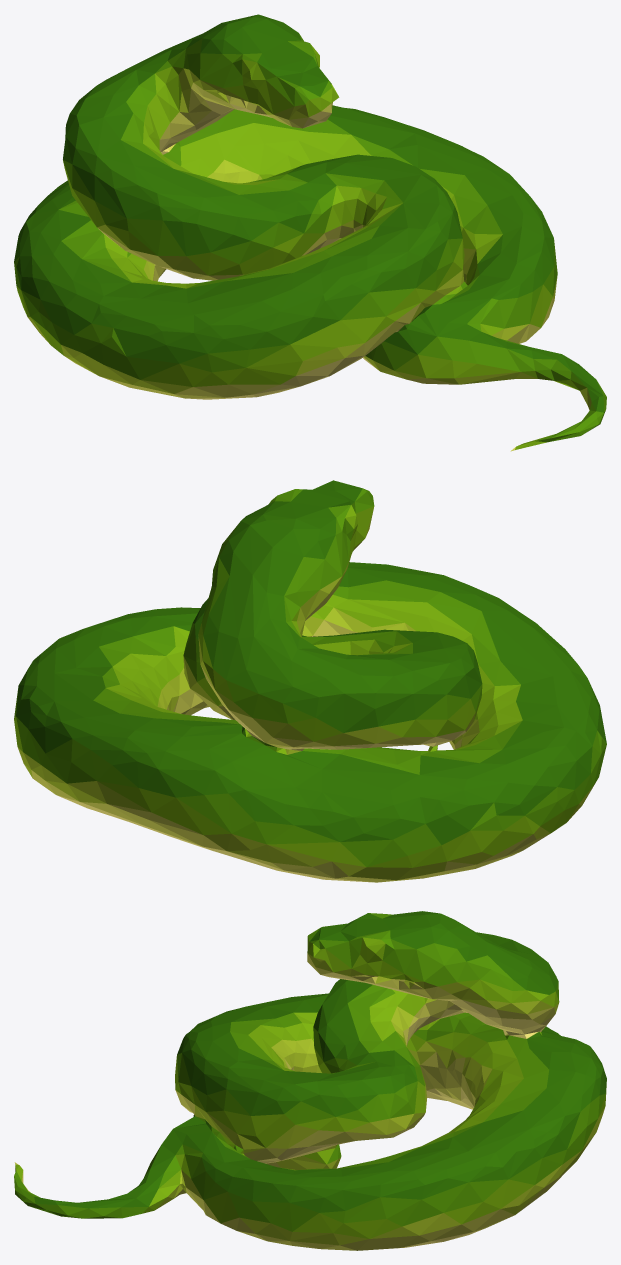
The model's file is low-poly-snake.glb.
3 views of the same model, one above another, from view 1: azimuth 30°, elevation 25°; view 2: azimuth 150°, elevation 25°; view 3: azimuth 270°, elevation 25° (orthographic). The views are drawn at different scales.
Visible parts, largest first — view 1: low-poly-snake; view 2: low-poly-snake; view 3: low-poly-snake.
Part boxes in pixels (box(x1,y1,x2,y2)): low-poly-snake: box(14, 14, 606, 451); low-poly-snake: box(14, 480, 606, 882); low-poly-snake: box(14, 911, 606, 1250).
Size of the model in its own units: 0.4073 by 0.2172 by 0.4979.
Materials: 1 (1 with a texture image).
